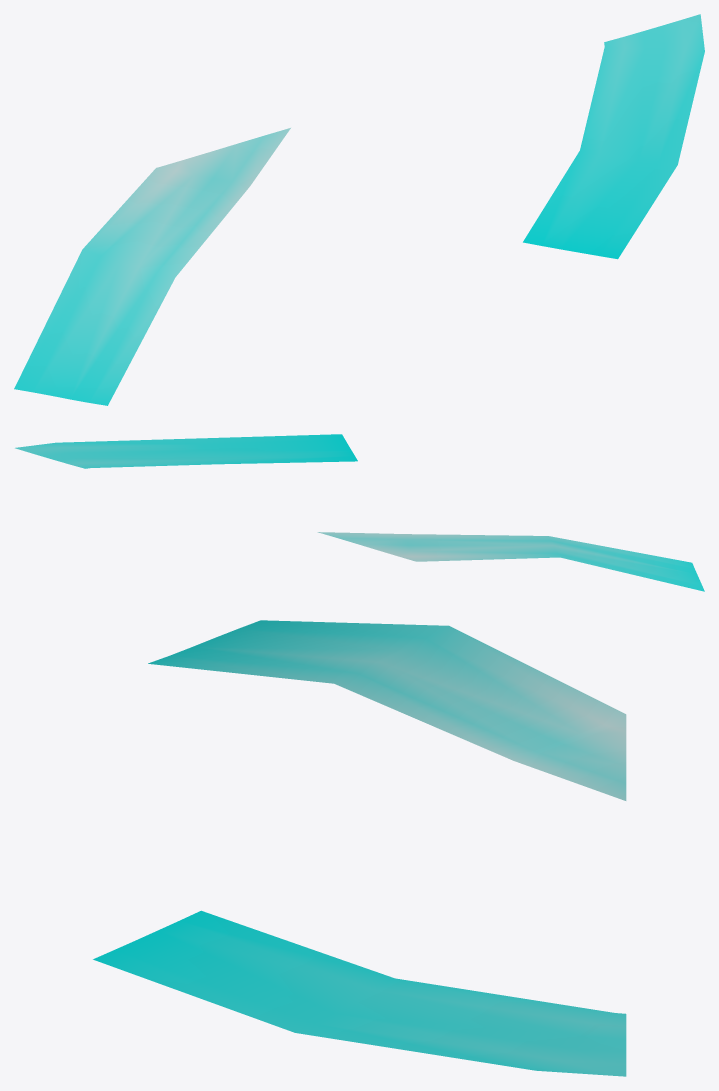
The picture shows the model from 3 angles, top to bottom: view 1: azimuth 30°, elevation 25°; view 2: azimuth 150°, elevation 25°; view 3: azimuth 270°, elevation 25°; orthographic projection. The views are drawn at different scales.
Visible parts, largest first — view 1: SpaceCenter_Long3_GenerateRoad_Sand_TireTracks_Width_Mesh_x1; view 2: SpaceCenter_Long3_GenerateRoad_Sand_TireTracks_Width_Mesh_x1; view 3: SpaceCenter_Long3_GenerateRoad_Sand_TireTracks_Width_Mesh_x1.
Boxes of the visible parts, x1=… form: SpaceCenter_Long3_GenerateRoad_Sand_TireTracks_Width_Mesh_x1: x1=14, y1=14, x2=704, y2=405; SpaceCenter_Long3_GenerateRoad_Sand_TireTracks_Width_Mesh_x1: x1=15, y1=434, x2=704, y2=591; SpaceCenter_Long3_GenerateRoad_Sand_TireTracks_Width_Mesh_x1: x1=93, y1=620, x2=626, y2=1076.
Size of the model in its own units: 130 by 337 by 35.52.
